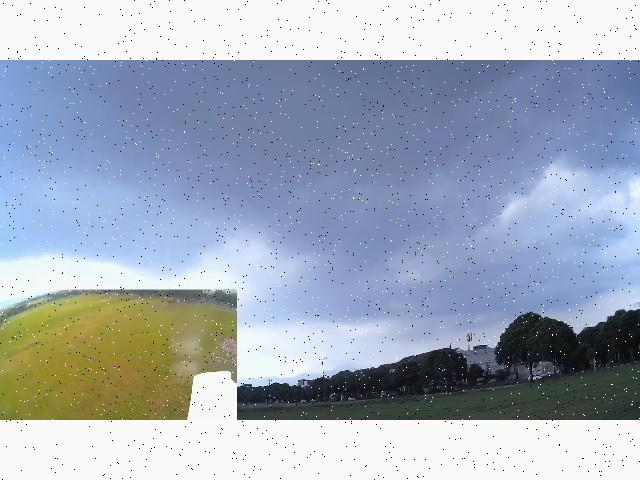Anti-Drone: (361, 276, 379, 292)
